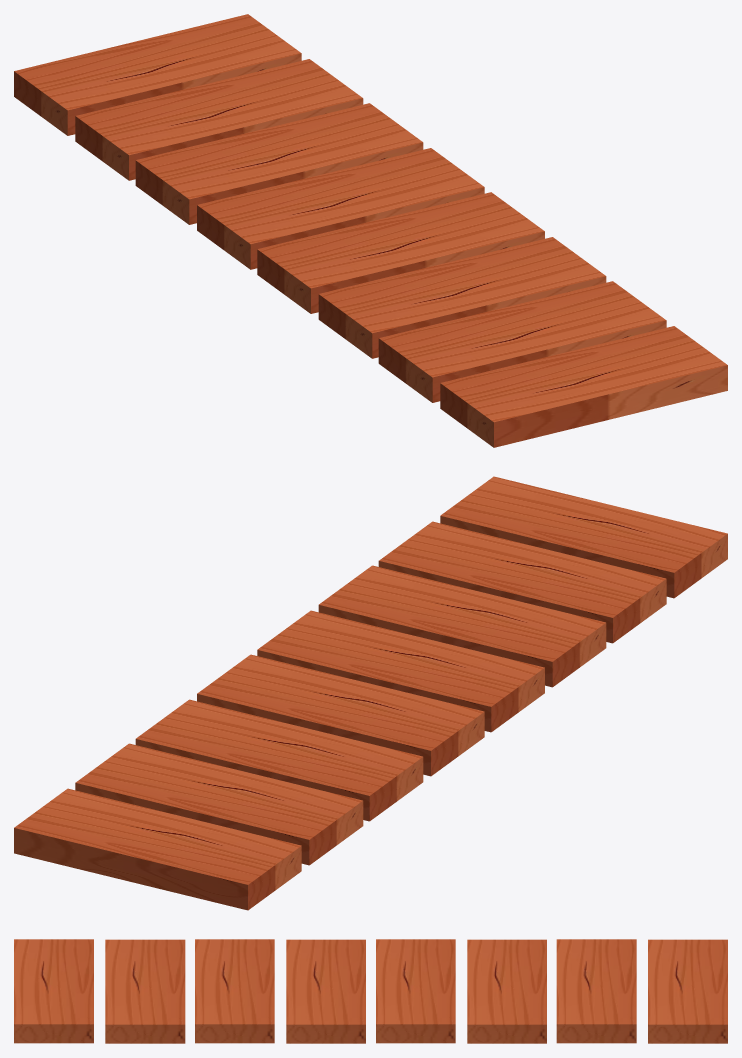
File: puente.glb
The picture shows the model from 3 angles, top to bottom: view 1: azimuth 30°, elevation 25°; view 2: azimuth 150°, elevation 25°; view 3: azimuth 270°, elevation 25°; orthographic projection. The views are drawn at different scales.
Visible parts, largest first — view 1: Cube.003, Cube.002, Cube.005, Cube.001, Cube.006, Cube.007, Cube.004, Cube; view 2: Cube.006, Cube.007, Cube, Cube.003, Cube.004, Cube.005, Cube.002, Cube.001; view 3: Cube.002, Cube.007, Cube, Cube.001, Cube.003, Cube.004, Cube.005, Cube.006.
Boxes of the visible parts, <box> form: Cube.003: <box>440,326,727,447</box>; Cube.002: <box>378,281,666,402</box>; Cube.005: <box>135,103,423,224</box>; Cube.001: <box>257,192,544,313</box>; Cube.006: <box>14,14,301,135</box>; Cube.007: <box>75,59,363,180</box>; Cube.004: <box>197,148,484,269</box>; Cube: <box>318,237,606,358</box>; Cube.006: <box>14,788,301,910</box>; Cube.007: <box>75,743,363,865</box>; Cube: <box>318,565,606,687</box>; Cube.003: <box>440,476,727,598</box>; Cube.004: <box>197,654,484,776</box>; Cube.005: <box>135,699,423,821</box>; Cube.002: <box>378,521,666,643</box>; Cube.001: <box>257,610,544,732</box>; Cube.002: <box>105,939,185,1043</box>; Cube.007: <box>556,939,636,1043</box>; Cube: <box>195,939,274,1043</box>; Cube.001: <box>286,939,365,1043</box>; Cube.003: <box>14,939,93,1043</box>; Cube.004: <box>376,939,455,1043</box>; Cube.005: <box>467,939,546,1043</box>; Cube.006: <box>648,939,727,1043</box>.
Size of the model in its own units: 3.33 by 0.3498 by 11.84.
Materials: 8 (8 with a texture image).
